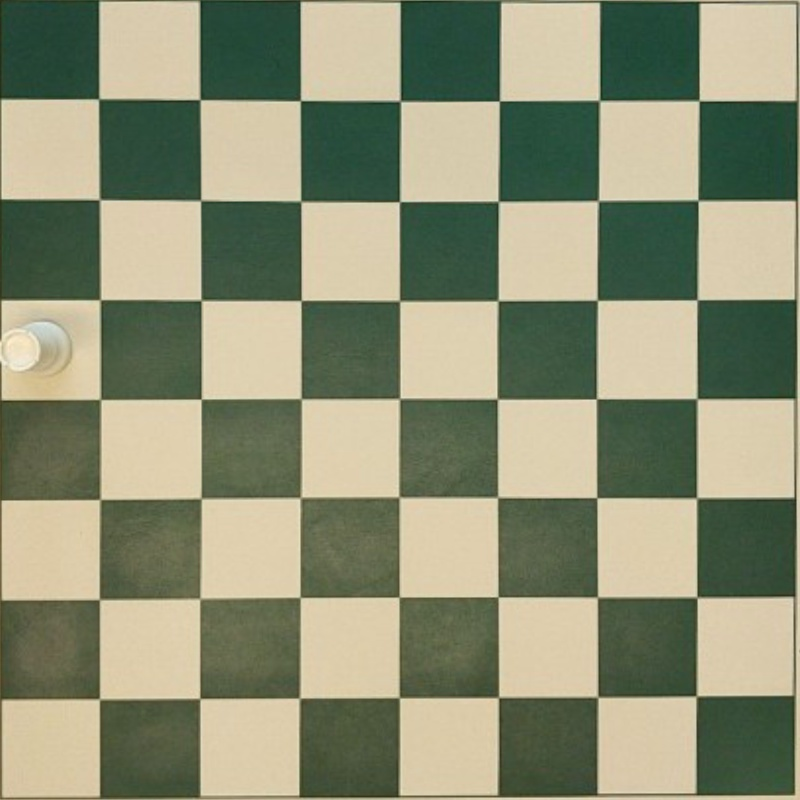white-rook: (1, 320, 70, 375)
